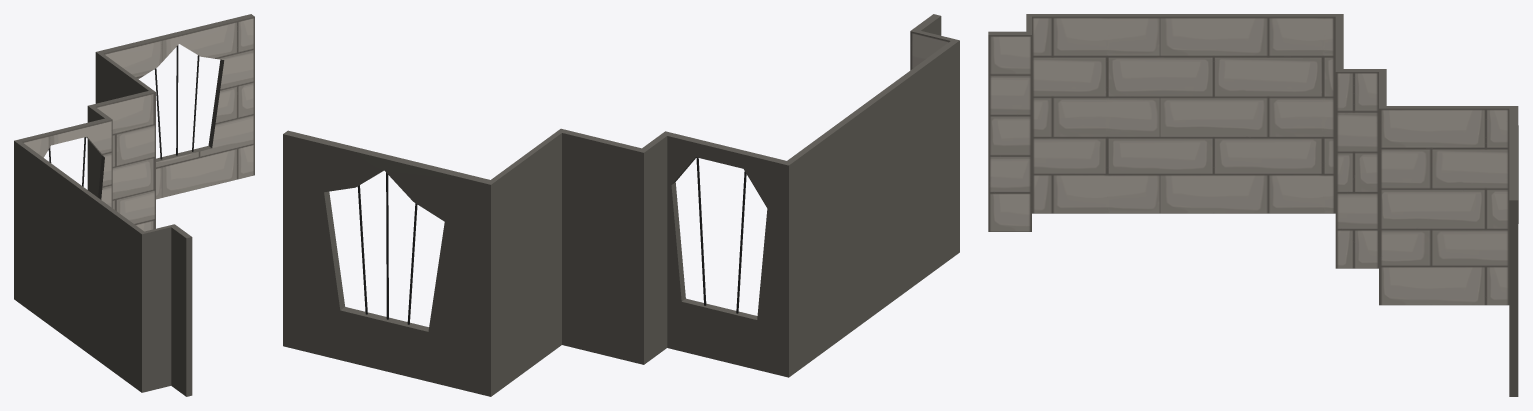
Rendered from wall_LV5.fbx.
3 views of the same model, side by side, from view 1: azimuth 30°, elevation 25°; view 2: azimuth 150°, elevation 25°; view 3: azimuth 270°, elevation 25° (orthographic). The views are drawn at different scales.
Parts seen in each view (by area): view 1: pCube7; view 2: pCube7; view 3: pCube7.
Boxes of the visible parts, bbox=[...] form: pCube7: bbox=[14, 14, 254, 396]; pCube7: bbox=[283, 14, 959, 396]; pCube7: bbox=[988, 14, 1518, 396].
Bounding box in the file's own units: 2031 × 1000 × 2442.
